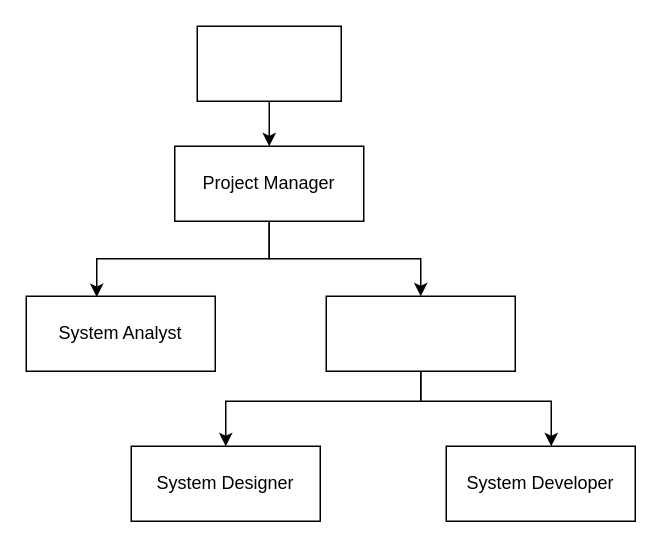
This 662x548 diagram has some shape labels left out. Each missing label, with the centre of its shape:
"Client" belongs at point (268, 63).
"Team Leader" belongs at point (420, 333).
